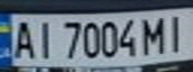0: (81, 18, 103, 60), (100, 18, 121, 60)
4: (118, 16, 142, 57)
7: (57, 17, 81, 60)
A: (9, 17, 39, 60)
I: (163, 11, 193, 53), (30, 17, 57, 60)
M: (139, 14, 172, 56)
